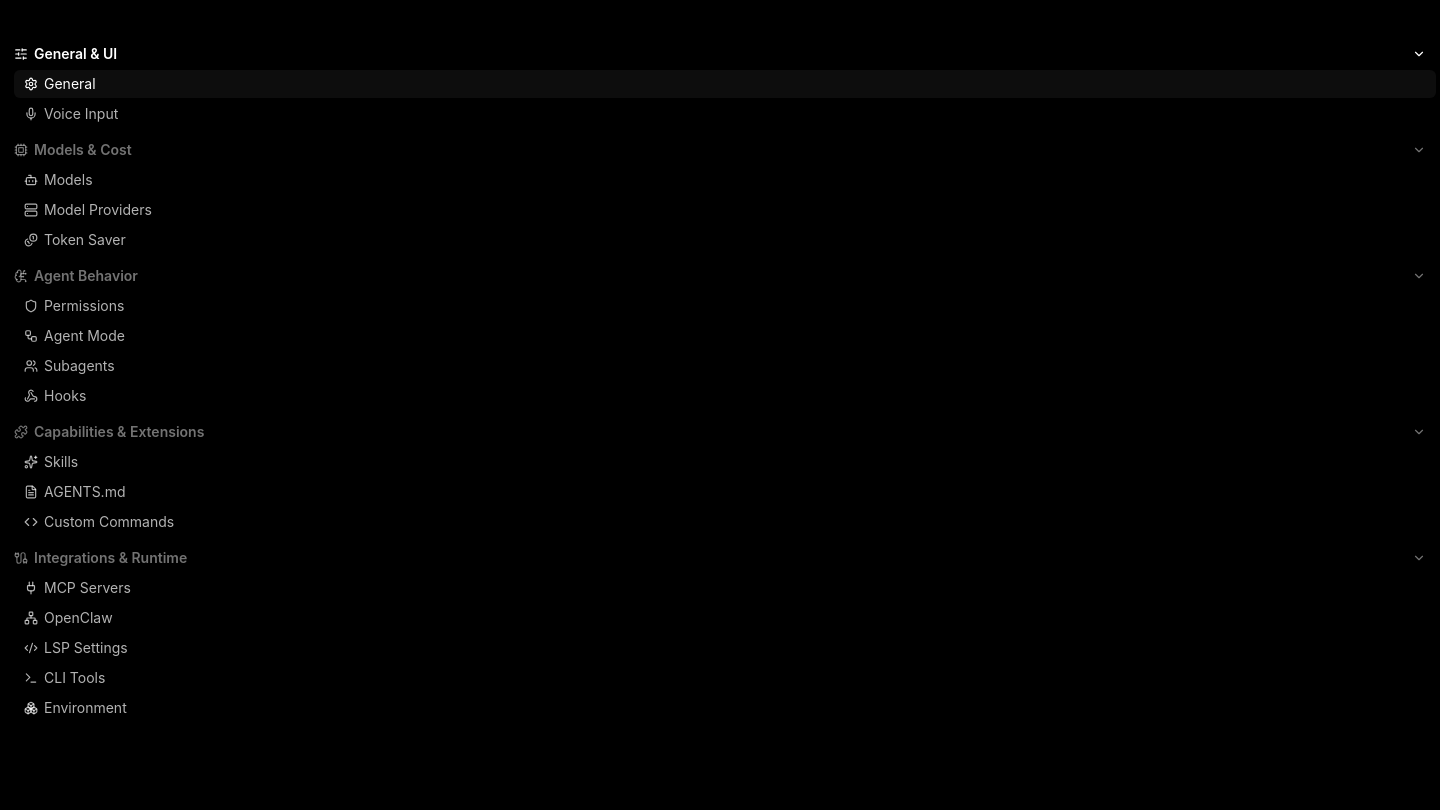
Test: SettingsLeftSideBar 分组导航 › 点击分组头折叠其下分区，再次点击恢复展开
Click the button "Agent Behavior". click: click(86, 276)
box: [4, 262, 1436, 290]
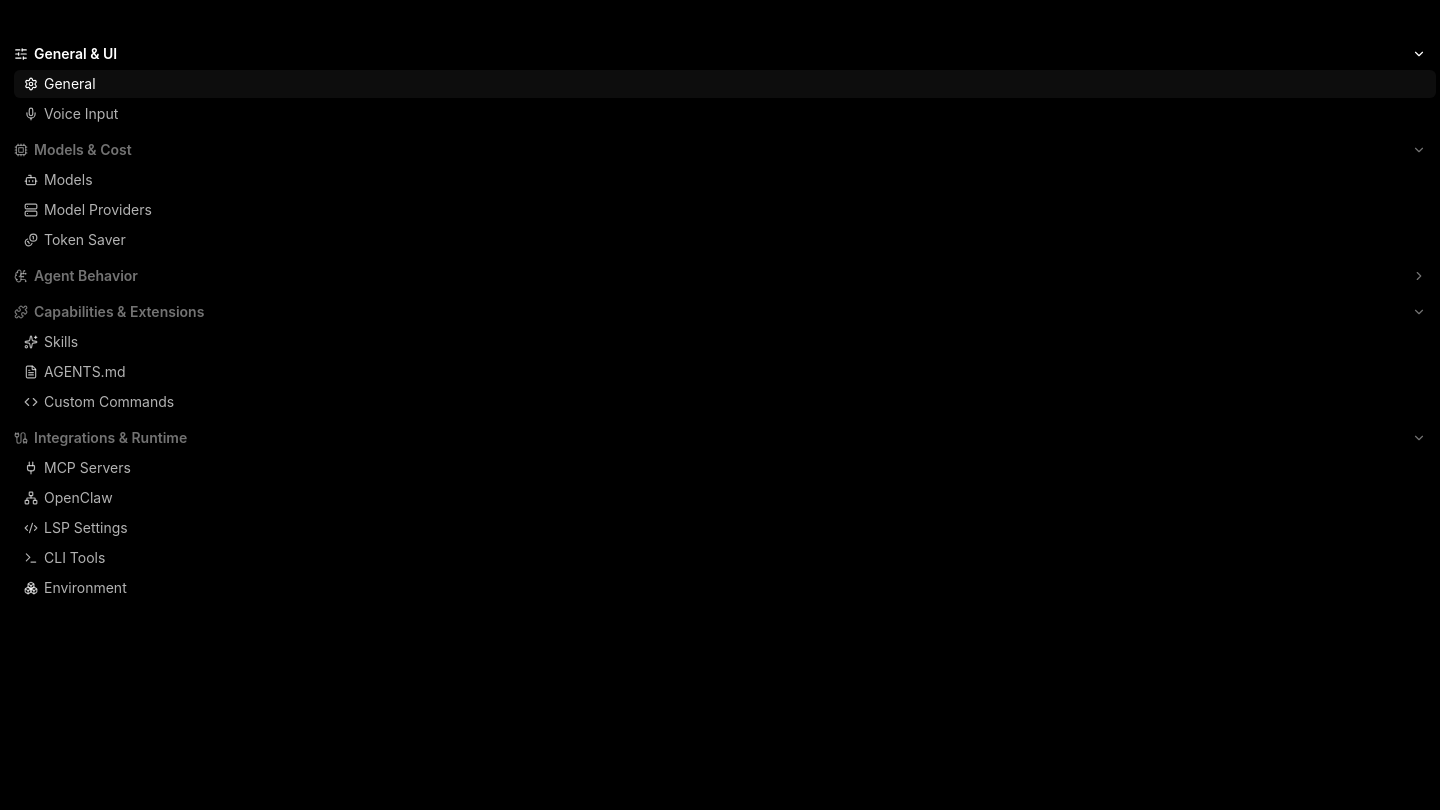
Now the button "Permissions" is gone
Click the button "Agent Behavior". click: click(86, 276)
box: [4, 262, 1436, 290]
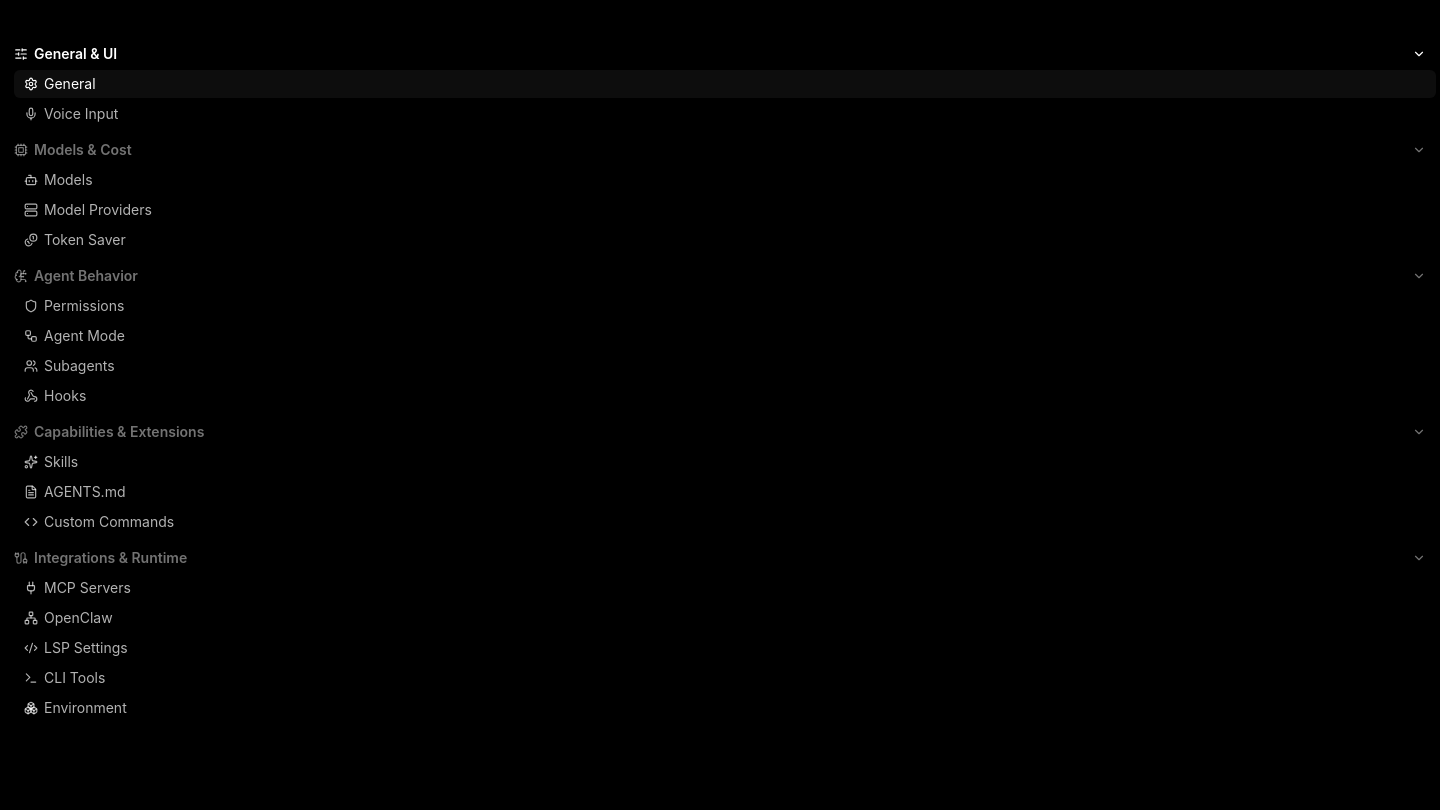
Now the button "Permissions" is shown, box [24, 297, 124, 314]
